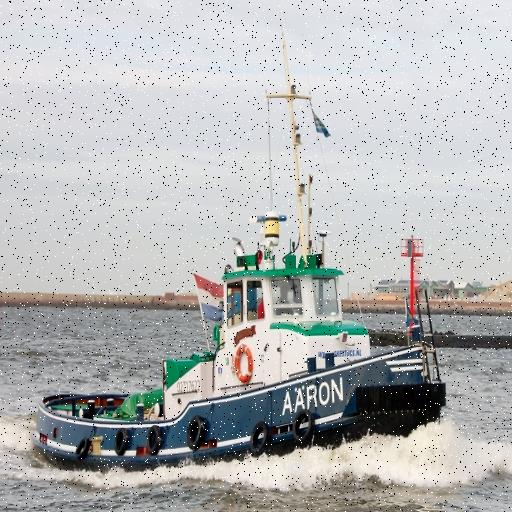tugboat: (29, 209, 454, 489)
